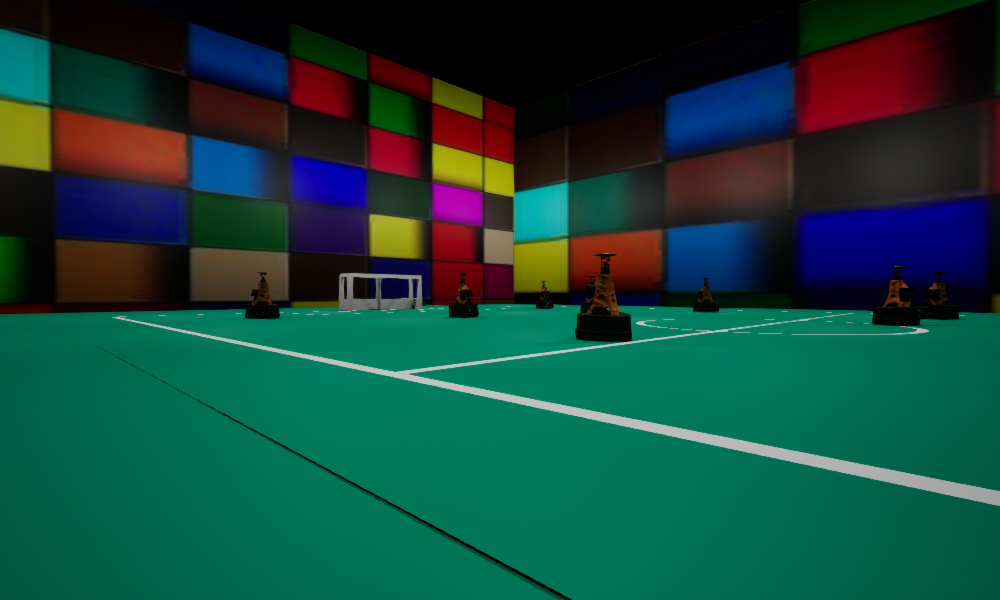0 orange robot TechUnited: (575, 253, 631, 341), (872, 266, 923, 325), (917, 272, 958, 319), (245, 272, 279, 318), (449, 273, 478, 317), (580, 276, 603, 313), (693, 278, 718, 311), (536, 281, 553, 308)
